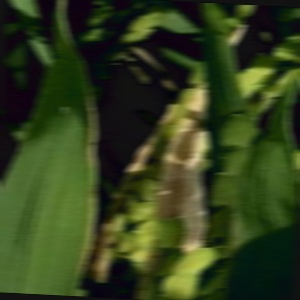Leaf_Blast: (7, 84, 100, 295)
